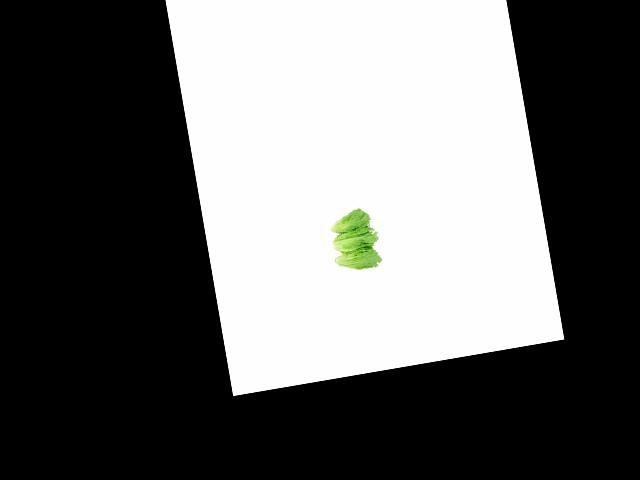lettuce: (318, 206, 373, 239)
